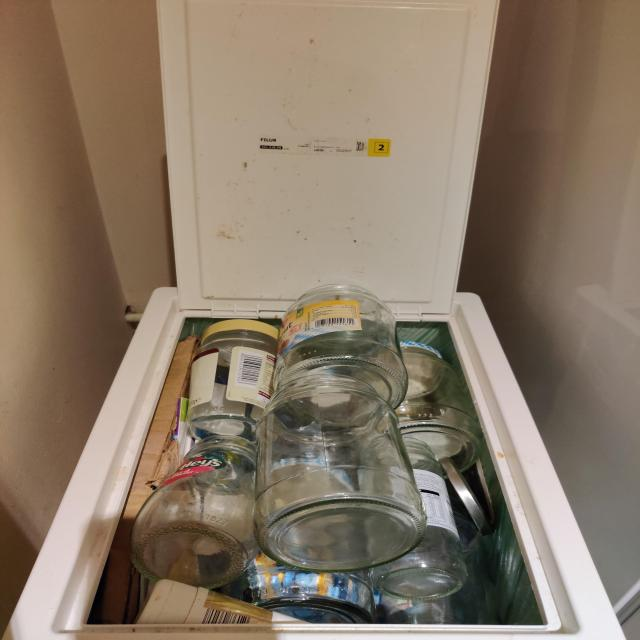litter: (257, 372, 423, 572), (123, 440, 264, 589), (273, 278, 409, 407), (385, 432, 469, 595), (185, 318, 274, 444), (401, 340, 485, 467), (138, 582, 306, 622)
